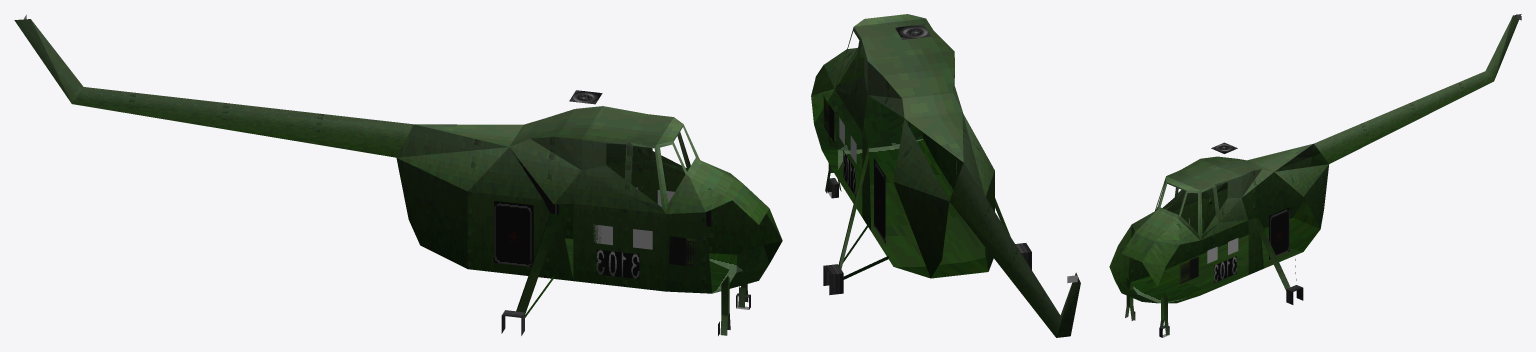
Rendered from primary_001.glb.
3 views of the same model, side by side, from view 1: azimuth 30°, elevation 25°; view 2: azimuth 150°, elevation 25°; view 3: azimuth 270°, elevation 25° (orthographic). The views are drawn at different scales.
Parts seen in each view (by area): view 1: Object; view 2: Object; view 3: Object.
Boxes of the visible parts, box(x1,y1,x2,y2) form: Object: box(14, 14, 782, 335); Object: box(811, 14, 1080, 337); Object: box(1109, 14, 1521, 337).
Bounding box in the file's own units: 16.58 × 7.04 × 16.58.
68 materials, 68 textured.
